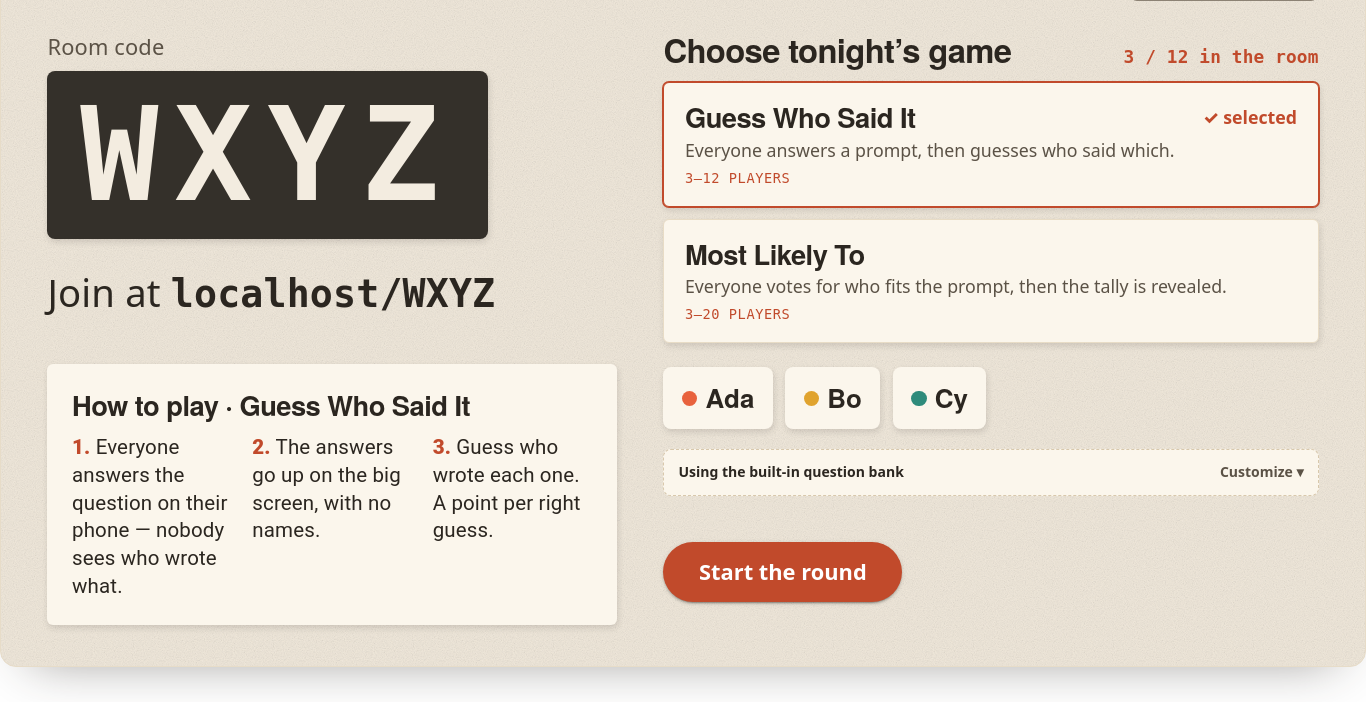
Test case: host customize questions (Cycle 11) › A9 blocks Start when Customize is open with an empty list, enables it otherwise
The width and height of the screenshot is (1366, 702).
Expected: the button "Start the round" is enabled, [664,542,902,602]
Click the button "Using the built-in question bank Customize ▾": [791, 472] box [664,449,1319,496]
(page scrolled)
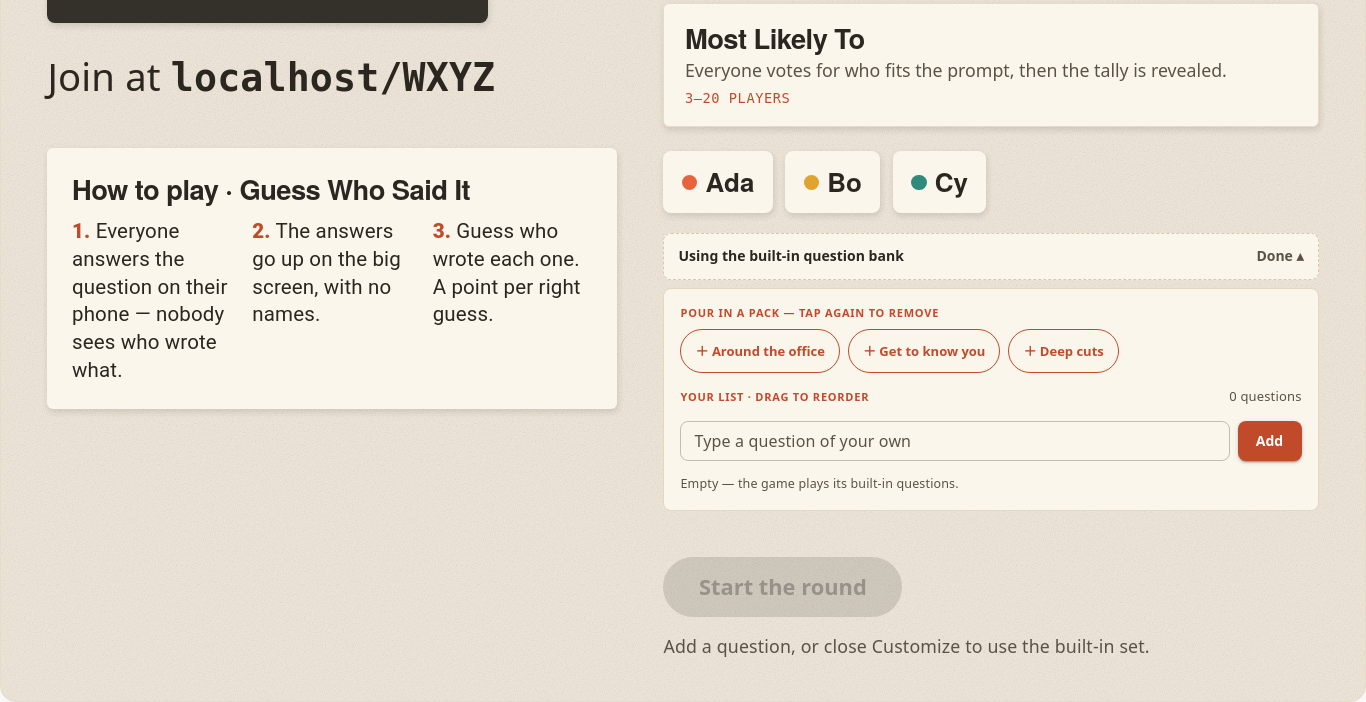
Expected: the button "Start the round" is disabled, [664,557,902,617]
Expected: the text "Add a question, or close Customize to use the built-in set." is shown, [664,633,1150,660]
